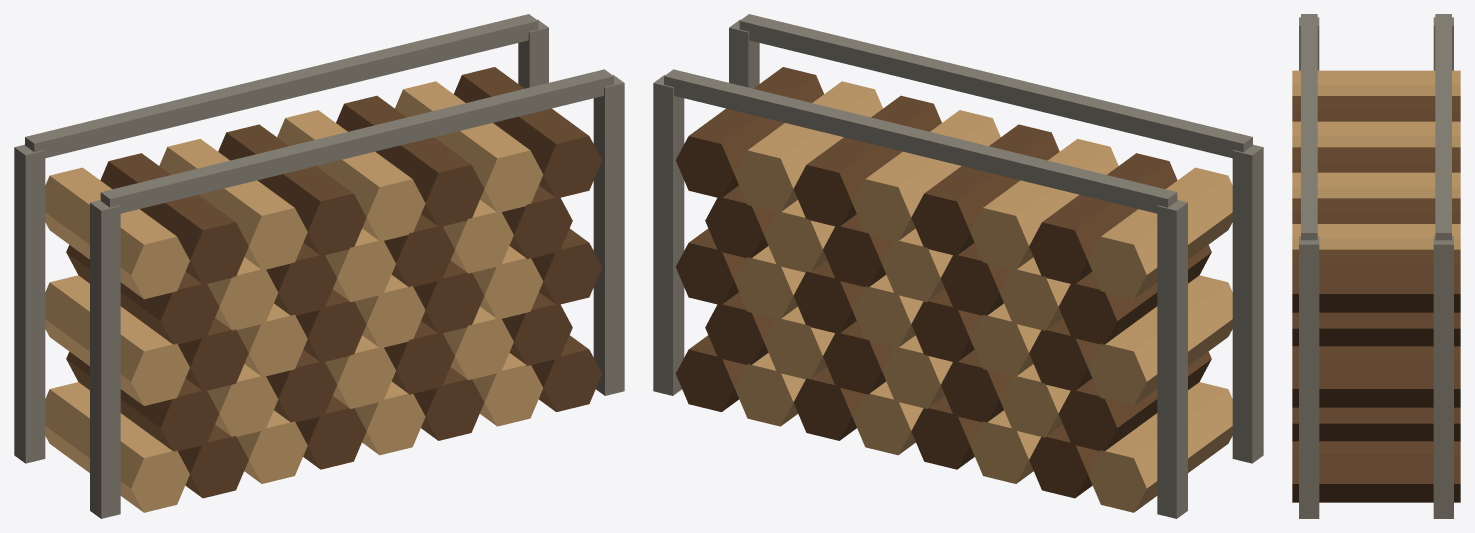
File: GT_FirewoodStack_01.glb
The picture shows the model from 3 angles, left to right: view 1: azimuth 30°, elevation 25°; view 2: azimuth 150°, elevation 25°; view 3: azimuth 270°, elevation 25°; orthographic projection. The views are drawn at different scales.
Visible parts, largest first — view 1: GT_FirewoodStack_01; view 2: GT_FirewoodStack_01; view 3: GT_FirewoodStack_01.
Boxes of the visible parts, box(x1,y1,x2,y2) form: GT_FirewoodStack_01: box(14, 14, 624, 518); GT_FirewoodStack_01: box(653, 14, 1263, 518); GT_FirewoodStack_01: box(1292, 14, 1460, 518).
Bounding box in the file's own units: 1.6 × 0.9269 × 0.5.
Materials: 1 (1 with a texture image).
